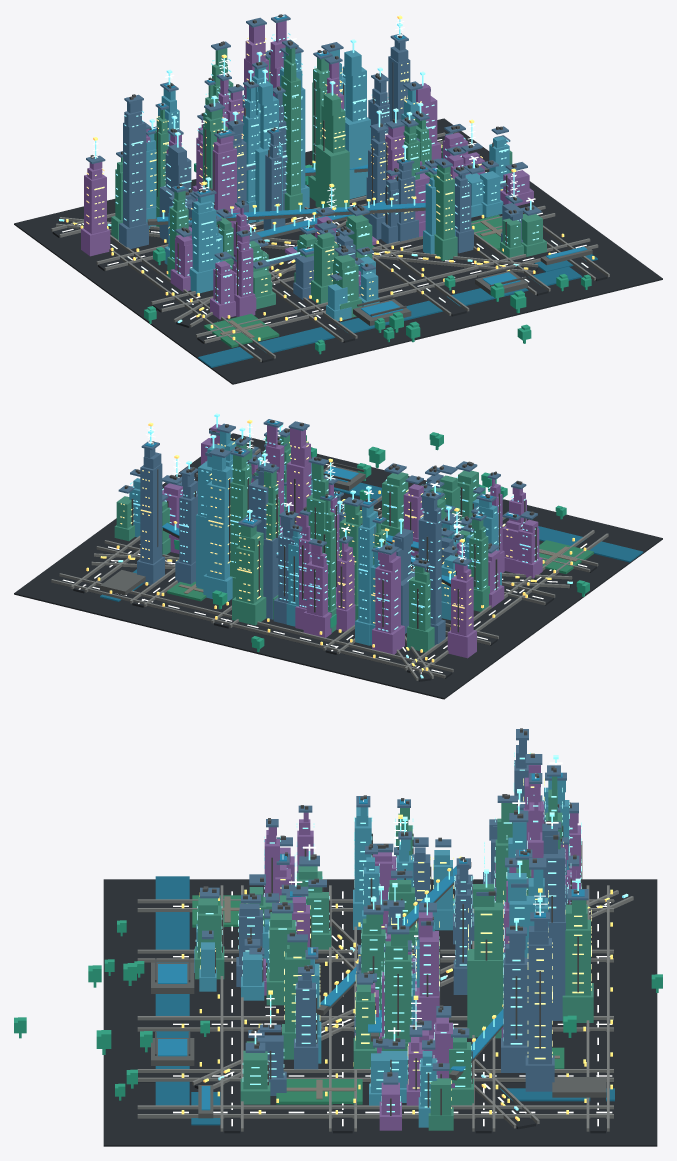
Rendered from smart-city-district.gltf.
3 renders of one model, top to bottom at view 1: azimuth 30°, elevation 25°; view 2: azimuth 150°, elevation 25°; view 3: azimuth 270°, elevation 25°, orthographic. The views are drawn at different scales.
Visible parts, largest first — view 1: road network, dark civic towers, green district buildings, cyan district buildings, violet district buildings, raised curbs and quay edges, canal and harbor water, roof equipment and facade fins, cool window ribbons, solar roofs and glass bridges, tree canopy, bridges and transit viaducts (+5 smaller); view 2: road network, violet district buildings, dark civic towers, green district buildings, cyan district buildings, raised curbs and quay edges, roof equipment and facade fins, cool window ribbons, tree canopy, canal and harbor water, lane markers, parks and planted terraces (+5 smaller); view 3: road network, dark civic towers, green district buildings, raised curbs and quay edges, cyan district buildings, violet district buildings, canal and harbor water, roof equipment and facade fins, cool window ribbons, solar roofs and glass bridges, bridges and transit viaducts, tree canopy (+6 smaller).
Boxes of the visible parts, box(x1,y1,x2,y2) form: road network: box(14, 118, 662, 384); dark civic towers: box(86, 14, 541, 299); green district buildings: box(111, 46, 546, 317); cyan district buildings: box(146, 49, 509, 321); violet district buildings: box(81, 20, 533, 319); raised curbs and quay edges: box(51, 132, 609, 361); canal and harbor water: box(198, 254, 597, 367); roof equipment and facade fins: box(90, 14, 534, 316); cool window ribbons: box(59, 33, 538, 322); solar roofs and glass bridges: box(148, 15, 587, 317); tree canopy: box(144, 163, 591, 354); bridges and transit viaducts: box(147, 168, 592, 325); road network: box(14, 433, 662, 699); violet district buildings: box(162, 424, 542, 658); dark civic towers: box(118, 419, 537, 645); green district buildings: box(114, 435, 489, 652); cyan district buildings: box(129, 431, 501, 645); raised curbs and quay edges: box(51, 448, 608, 680); roof equipment and facade fins: box(124, 420, 536, 632); cool window ribbons: box(118, 437, 572, 678); tree canopy: box(174, 432, 589, 652); canal and harbor water: box(100, 482, 643, 601); lane markers: box(62, 420, 587, 673); parks and planted terraces: box(167, 540, 593, 601); road network: box(103, 879, 657, 1146); dark civic towers: box(200, 729, 588, 1095); green district buildings: box(195, 776, 593, 1130); raised curbs and quay edges: box(137, 885, 633, 1131); cyan district buildings: box(194, 780, 569, 1127); violet district buildings: box(263, 765, 580, 1130); canal and harbor water: box(155, 876, 614, 1125); roof equipment and facade fins: box(155, 728, 582, 1115); cool window ribbons: box(195, 752, 628, 1112); solar roofs and glass bridges: box(158, 772, 584, 1110); bridges and transit viaducts: box(151, 862, 606, 1118); tree canopy: box(14, 898, 662, 1100).
Bounding box in the file's own units: 13.57 × 5.76 × 13.83.
